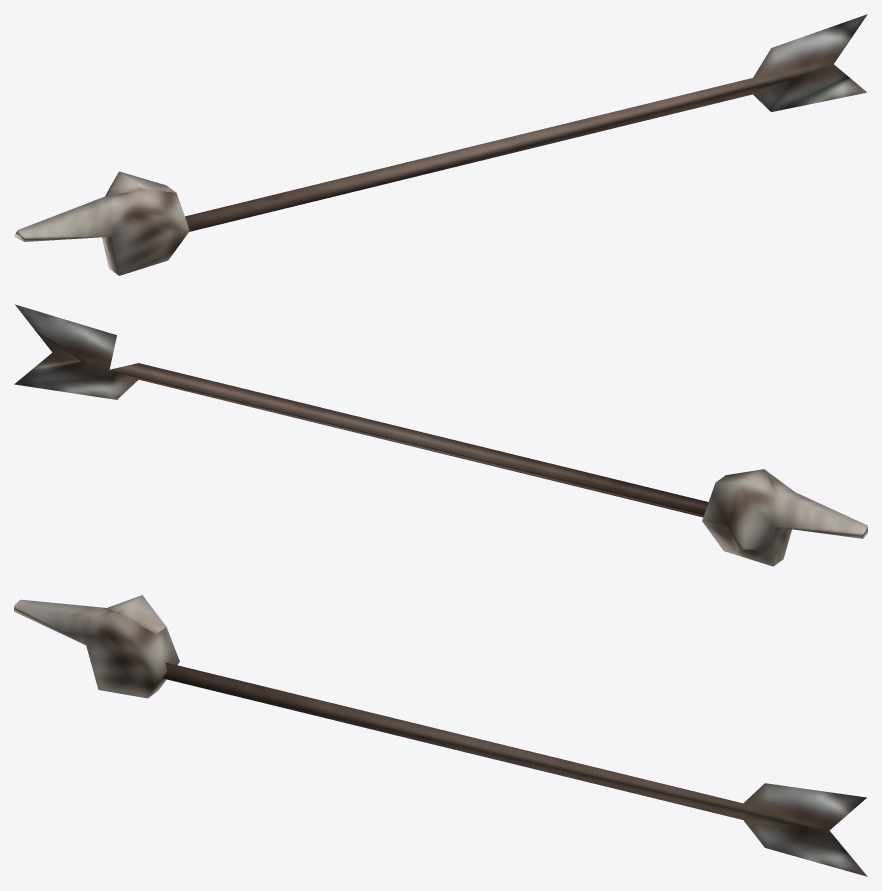
The model's file is hallowArrow.glb.
3 views of the same model, one above another, from view 1: azimuth 30°, elevation 25°; view 2: azimuth 150°, elevation 25°; view 3: azimuth 330°, elevation 25° (orthographic).
Parts seen in each view (by area): view 1: hallowArrow; view 2: hallowArrow; view 3: hallowArrow.
Boxes of the visible parts, x1,y1,x2,y2 form: hallowArrow: (14,14,867,275); hallowArrow: (14,304,867,566); hallowArrow: (14,595,867,876).
Size of the model in its own units: 1.03 by 0.1033 by 0.0702.
1 material, 1 textured.
